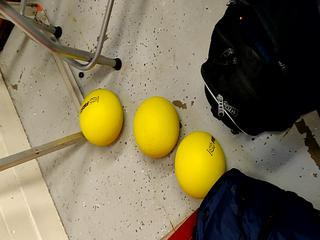power_cell: (72, 84, 129, 155), (173, 130, 229, 201), (127, 90, 183, 161)
